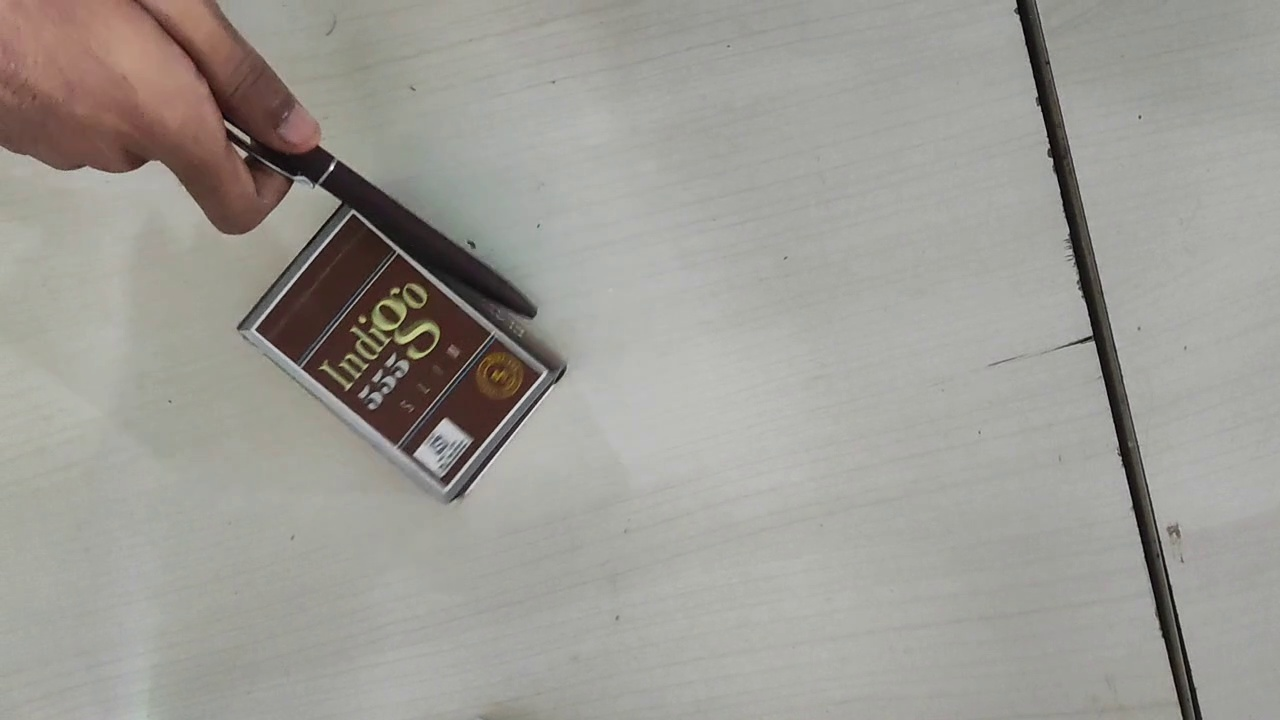BEX: (255, 210, 546, 489)
